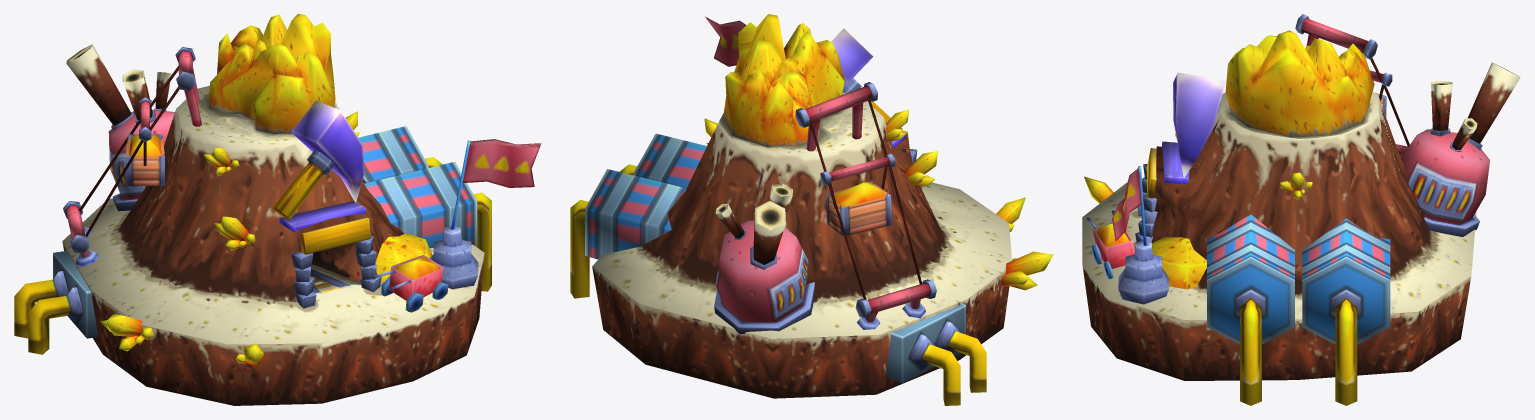
3 views of the same model, side by side, from view 1: azimuth 30°, elevation 25°; view 2: azimuth 150°, elevation 25°; view 3: azimuth 270°, elevation 25° (orthographic).
Parts seen in each view (by area): view 1: jk, jk_03, jk_11; view 2: jk, jk_11, jk_03; view 3: jk, jk_03, jk_11.
Boxes of the visible parts, x1=… form: jk: x1=14, y1=14, x2=541, y2=405; jk_03: x1=273, y1=100, x2=448, y2=312; jk_11: x1=63, y1=47, x2=201, y2=266; jk: x1=570, y1=14, x2=1053, y2=405; jk_11: x1=795, y1=82, x2=936, y2=329; jk_03: x1=831, y1=28, x2=902, y2=129; jk: x1=1082, y1=30, x2=1520, y2=405; jk_03: x1=1086, y1=72, x2=1226, y2=279; jk_11: x1=1295, y1=14, x2=1409, y2=157.
Bounding box in the file's own units: 194 × 133 × 180.
